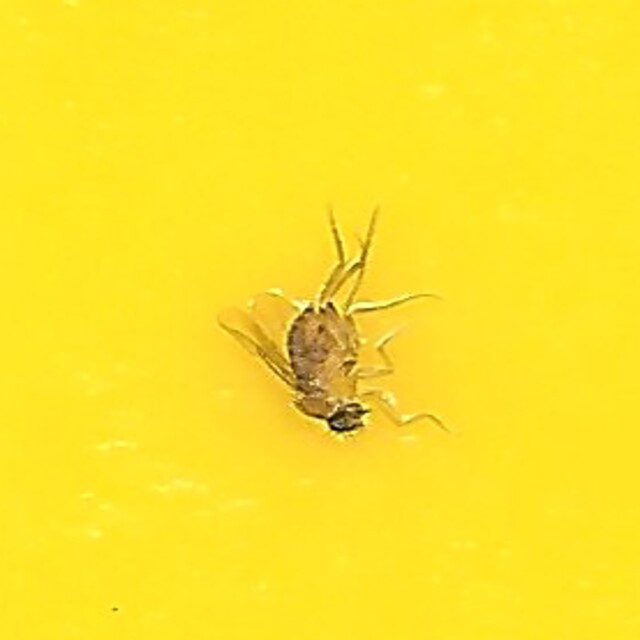Brachycera: (231, 198, 409, 442)
